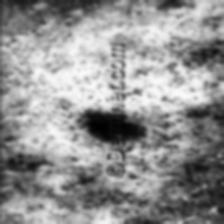Potentially Malignant Skin Tumors: (84, 105, 104, 145), (12, 152, 42, 174), (124, 113, 144, 142)
